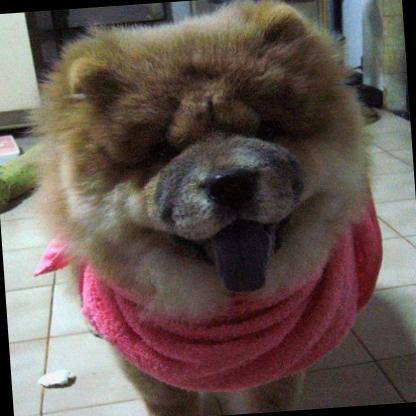chow: (23, 0, 384, 416)
